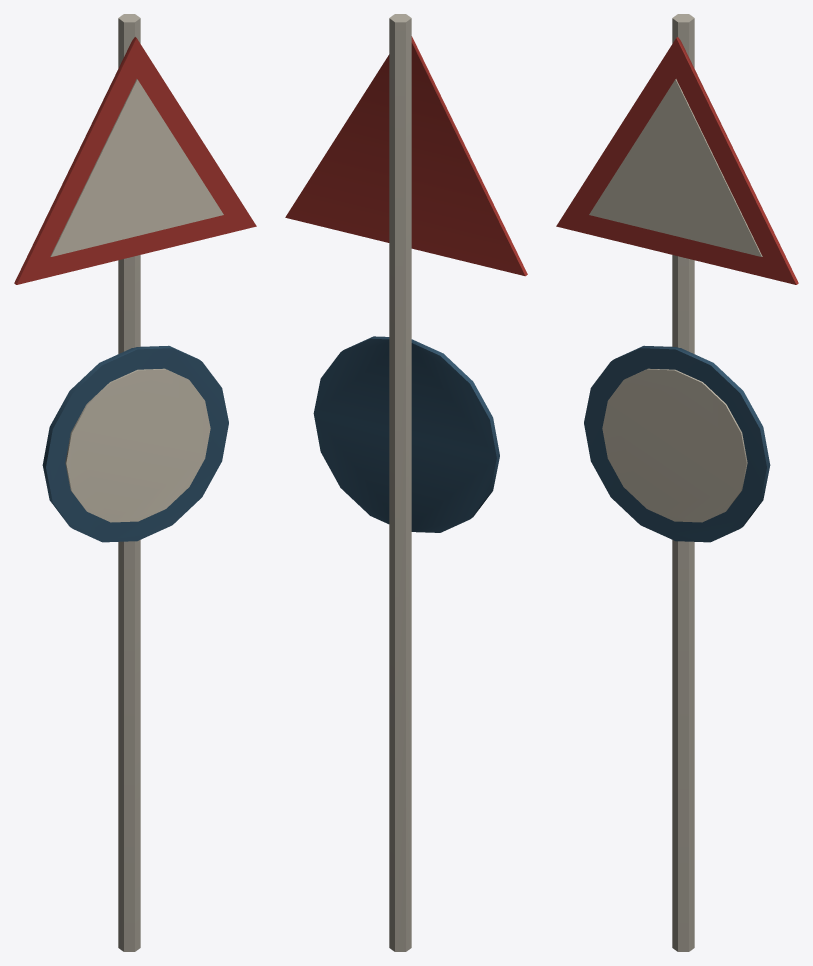
File: road_sign.glb
The picture shows the model from 3 angles, left to right: view 1: azimuth 30°, elevation 25°; view 2: azimuth 150°, elevation 25°; view 3: azimuth 330°, elevation 25°; orthographic projection.
Visible parts, largest first — view 1: road_sign_mesh; view 2: road_sign_mesh; view 3: road_sign_mesh.
Boxes of the visible parts, box(x1,y1,x2,y2) form: road_sign_mesh: box(14, 14, 256, 951); road_sign_mesh: box(285, 14, 527, 951); road_sign_mesh: box(556, 14, 798, 951).
Size of the model in its own units: 0.866 by 3.2 by 0.091.
